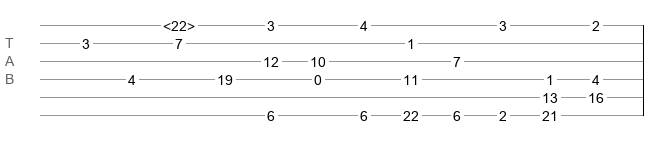0: (314, 72, 322, 82)
1: (407, 36, 415, 46), (546, 72, 554, 82)
10: (310, 54, 326, 64)
11: (403, 72, 419, 82)
12: (263, 54, 279, 64)
13: (542, 90, 558, 100)
16: (588, 90, 604, 100)
19: (217, 72, 233, 82)
2: (499, 108, 507, 118), (592, 18, 600, 28)
21: (542, 108, 558, 118)
22: (403, 108, 419, 118)
3: (82, 36, 90, 46), (267, 18, 275, 28), (499, 18, 507, 28)
4: (128, 72, 136, 82), (360, 18, 368, 28), (592, 72, 600, 82)
6: (267, 108, 275, 118), (360, 108, 368, 118), (453, 108, 461, 118)
7: (175, 36, 183, 46), (453, 54, 461, 64)
harmonic: (163, 18, 195, 28)
